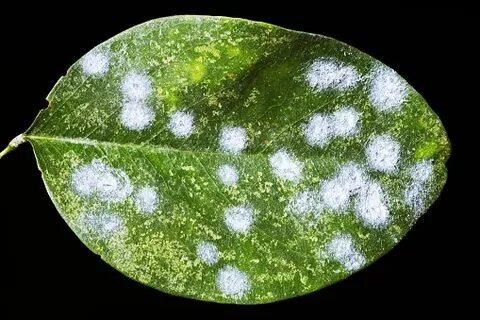pseudococcidae: (28, 16, 448, 311)
